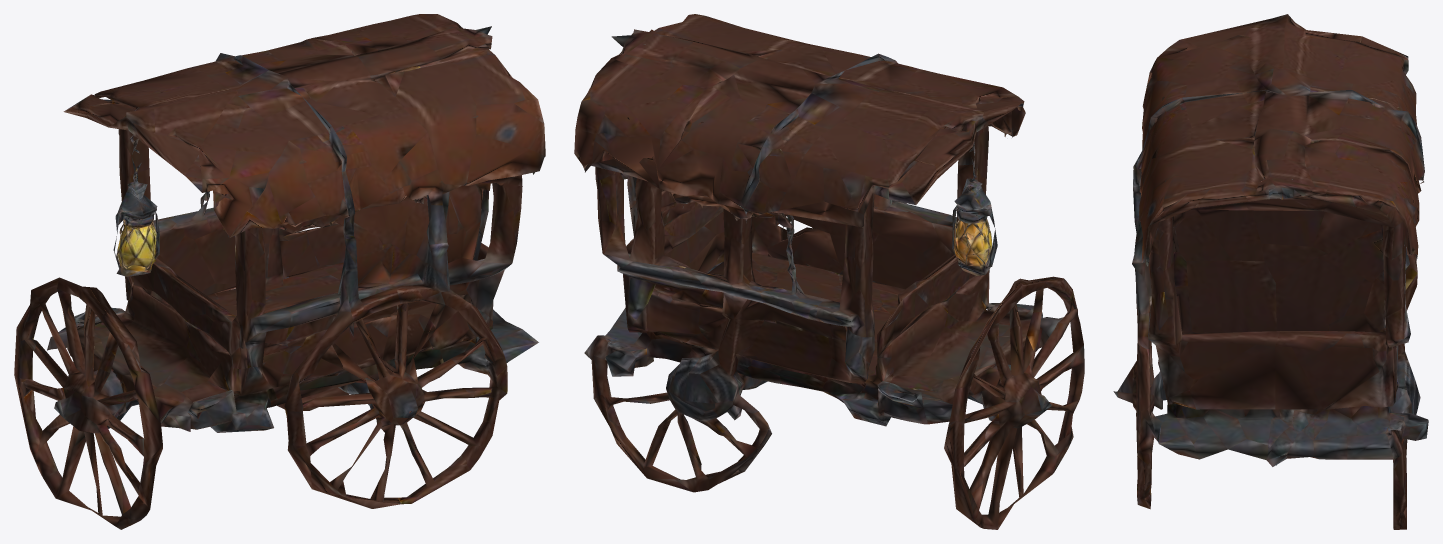
Rendered from cart.glb.
3 renders of one model, left to right at view 1: azimuth 30°, elevation 25°; view 2: azimuth 150°, elevation 25°; view 3: azimuth 270°, elevation 25°, orthographic.
Size of the model in its own units: 1.84 by 1.59 by 1.16.
1 material, 1 textured.
